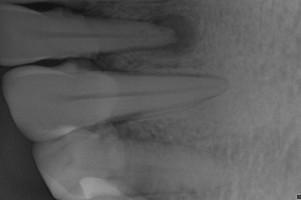Furcation Involvement: (141, 13, 201, 55)
